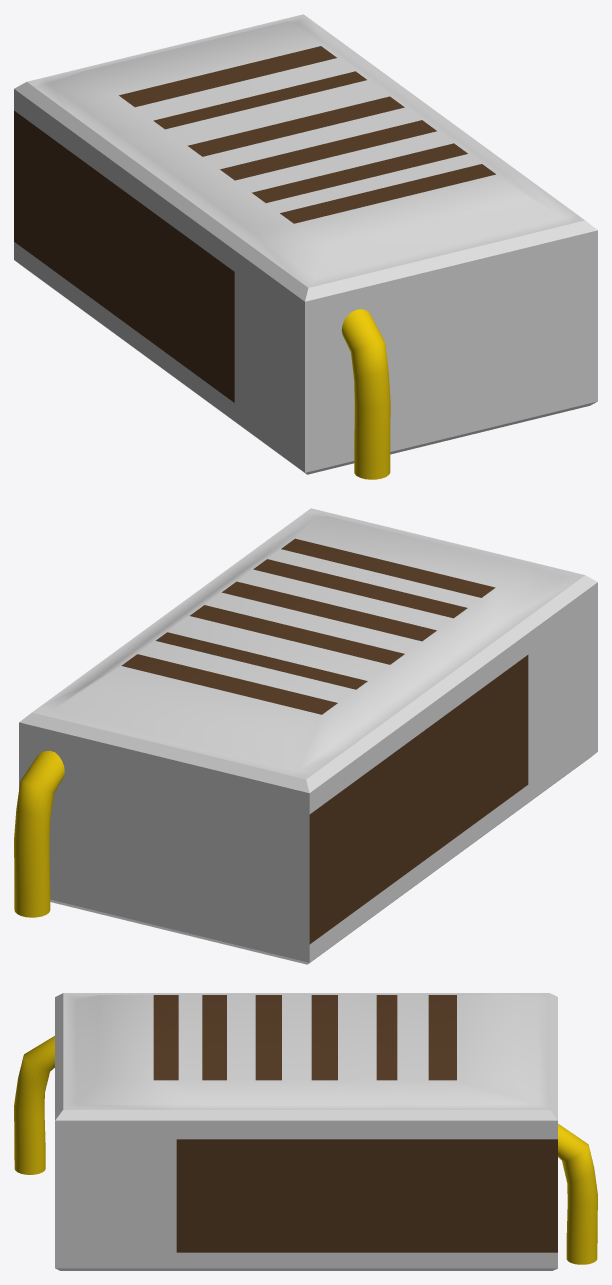
The model's file is Prop_AirCon1_Mod.fbx.
3 renders of one model, top to bottom at view 1: azimuth 30°, elevation 25°; view 2: azimuth 150°, elevation 25°; view 3: azimuth 270°, elevation 25°, orthographic. The views are drawn at different scales.
Visible parts, largest first — view 1: Aircon_2; view 2: Aircon_2; view 3: Aircon_2.
Boxes of the visible parts, bbox=[...] form: Aircon_2: bbox=[14, 14, 597, 479]; Aircon_2: bbox=[14, 508, 597, 964]; Aircon_2: bbox=[14, 993, 597, 1270].
Size of the model in its own units: 0.5813 by 0.3818 by 1.16.
